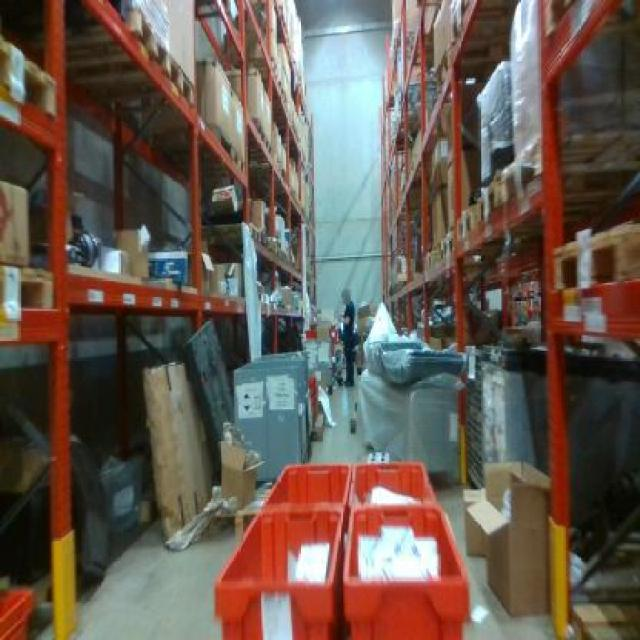pallet: (547, 225, 640, 292), (119, 0, 174, 79), (0, 42, 57, 117), (0, 257, 59, 322), (159, 37, 199, 111)
